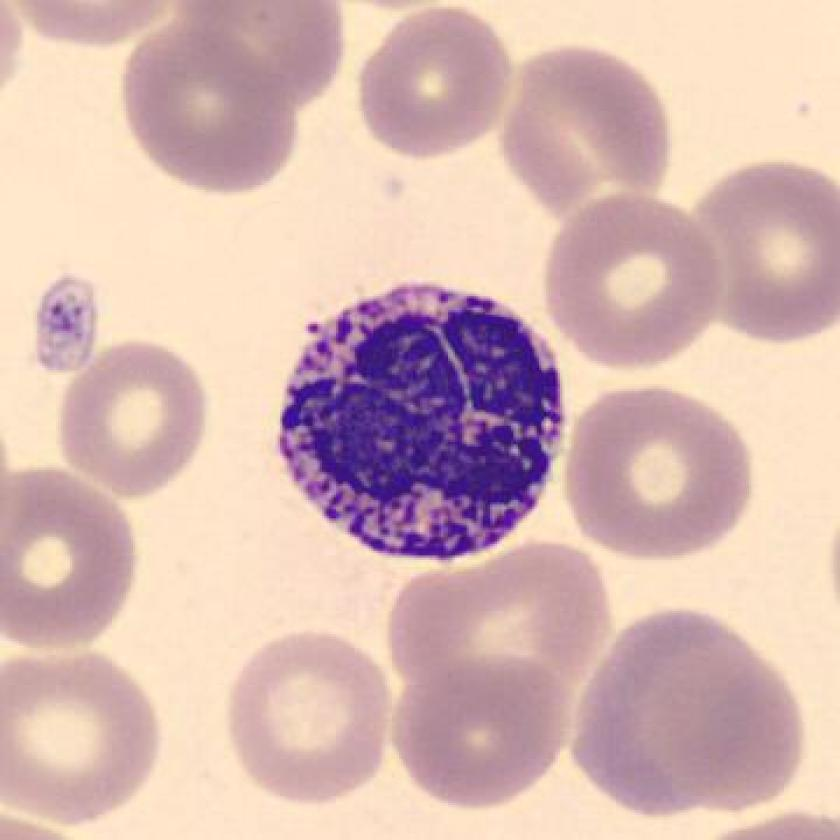basophil: (265, 274, 582, 568)
